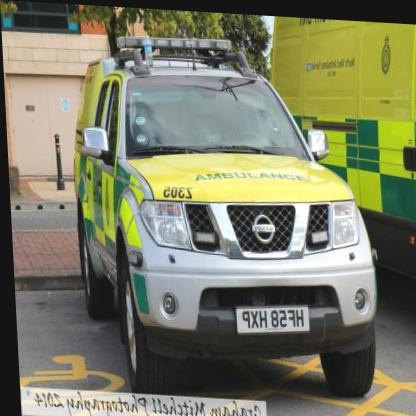License_Plate: (235, 301, 311, 338)
